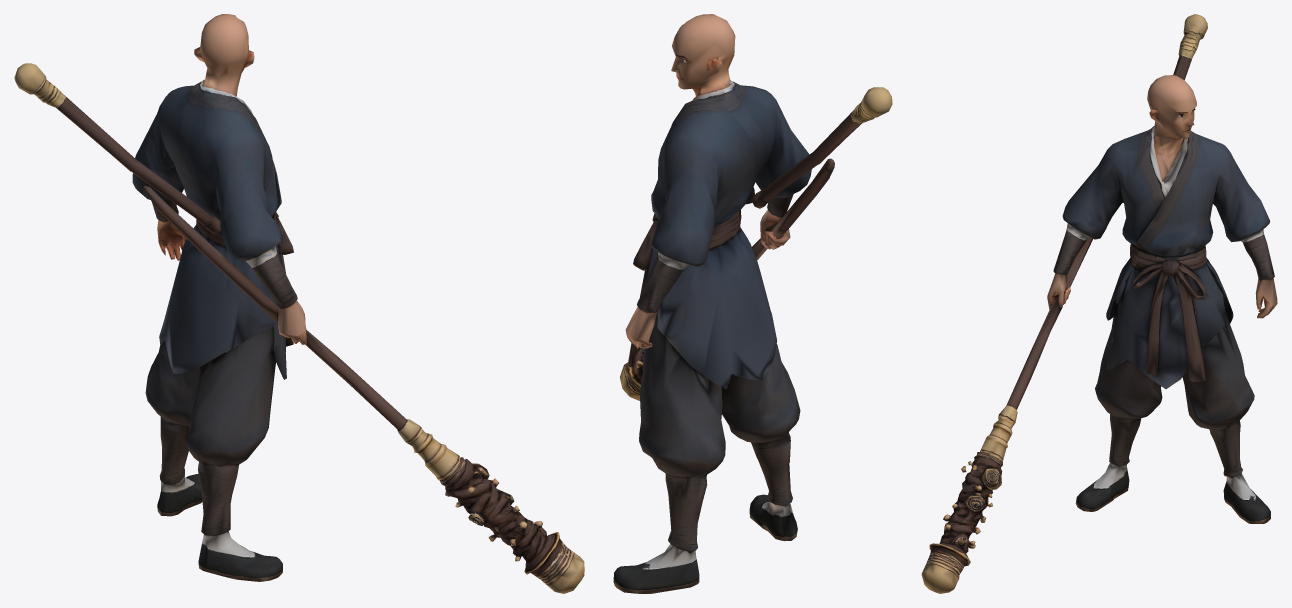
The model's file is monk-v2.glb.
3 renders of one model, left to right at view 1: azimuth 30°, elevation 25°; view 2: azimuth 150°, elevation 25°; view 3: azimuth 270°, elevation 25°, orthographic. The views are drawn at different scales.
Parts seen in each view (by area): view 1: tripo_node_9ea2818a-ed4d-4af6-9d98-63d636d6ec0a; view 2: tripo_node_9ea2818a-ed4d-4af6-9d98-63d636d6ec0a; view 3: tripo_node_9ea2818a-ed4d-4af6-9d98-63d636d6ec0a.
Part boxes in pixels (bbox=[...]): tripo_node_9ea2818a-ed4d-4af6-9d98-63d636d6ec0a: bbox=[14, 14, 584, 593]; tripo_node_9ea2818a-ed4d-4af6-9d98-63d636d6ec0a: bbox=[613, 14, 892, 593]; tripo_node_9ea2818a-ed4d-4af6-9d98-63d636d6ec0a: bbox=[921, 14, 1277, 593].
Size of the model in its own units: 0.8287 by 0.9995 by 0.7433.
Materials: 1 (1 with a texture image).
